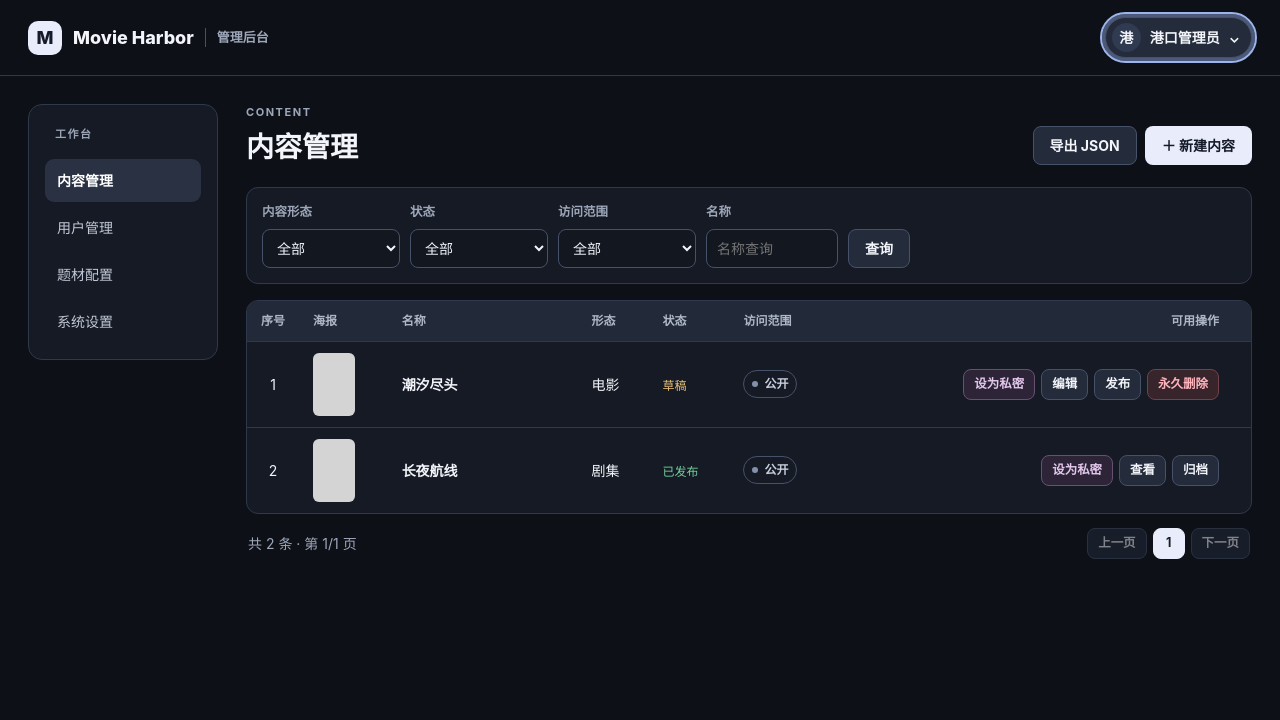
Scenario: opens the account menu by keyboard and closes on Escape and outside click
Press Enter
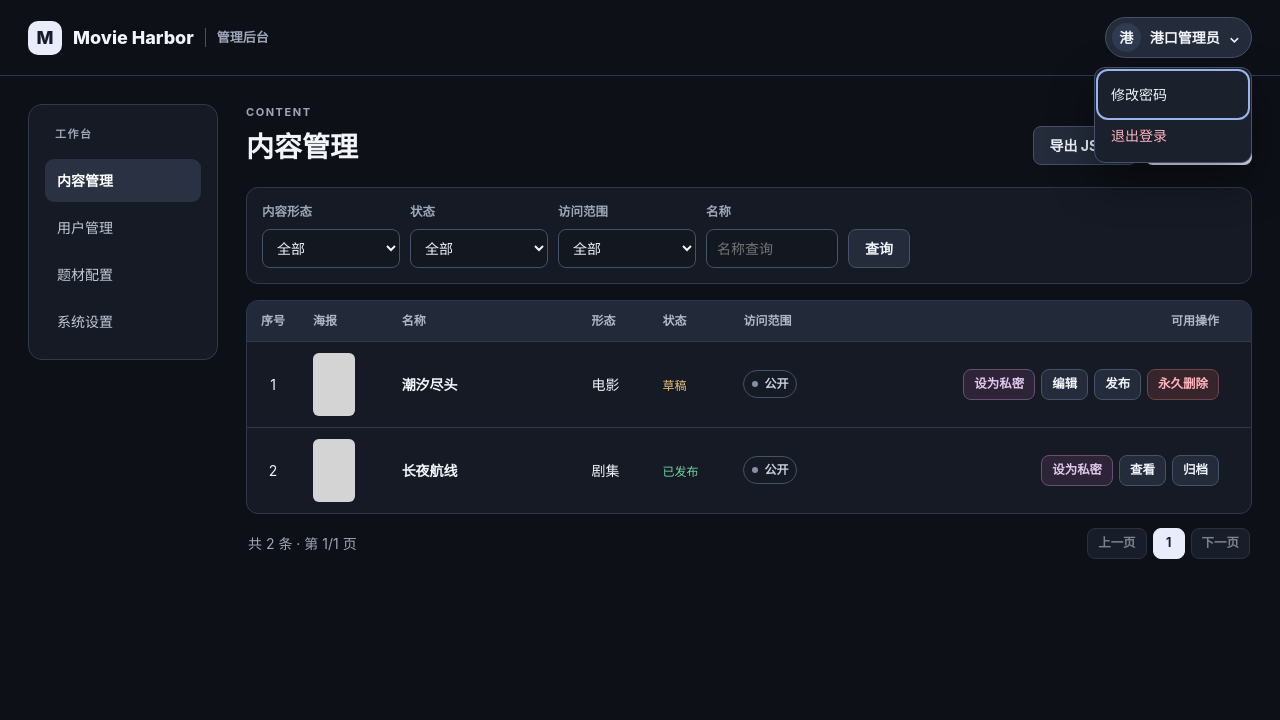
Expected: the button "港 港口管理员 ⌄" is expanded, left=1105, top=17, right=1252, bottom=58
Press Arrowdown
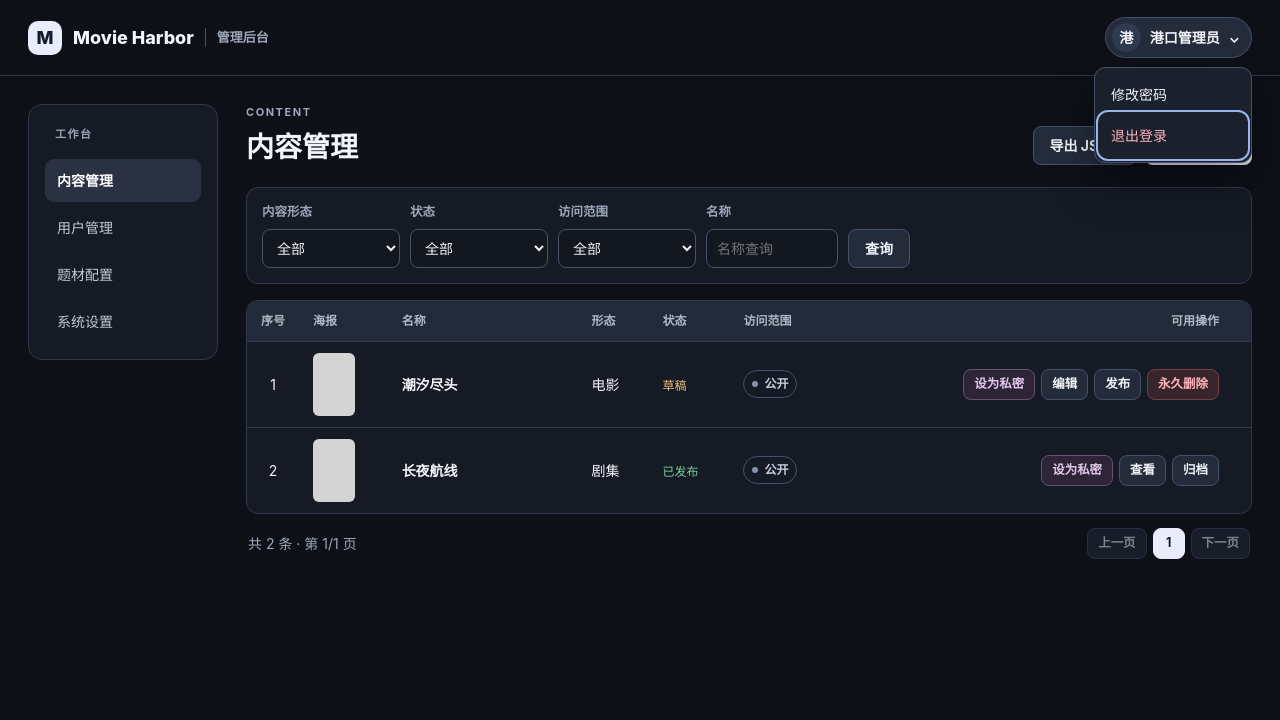
Press Escape
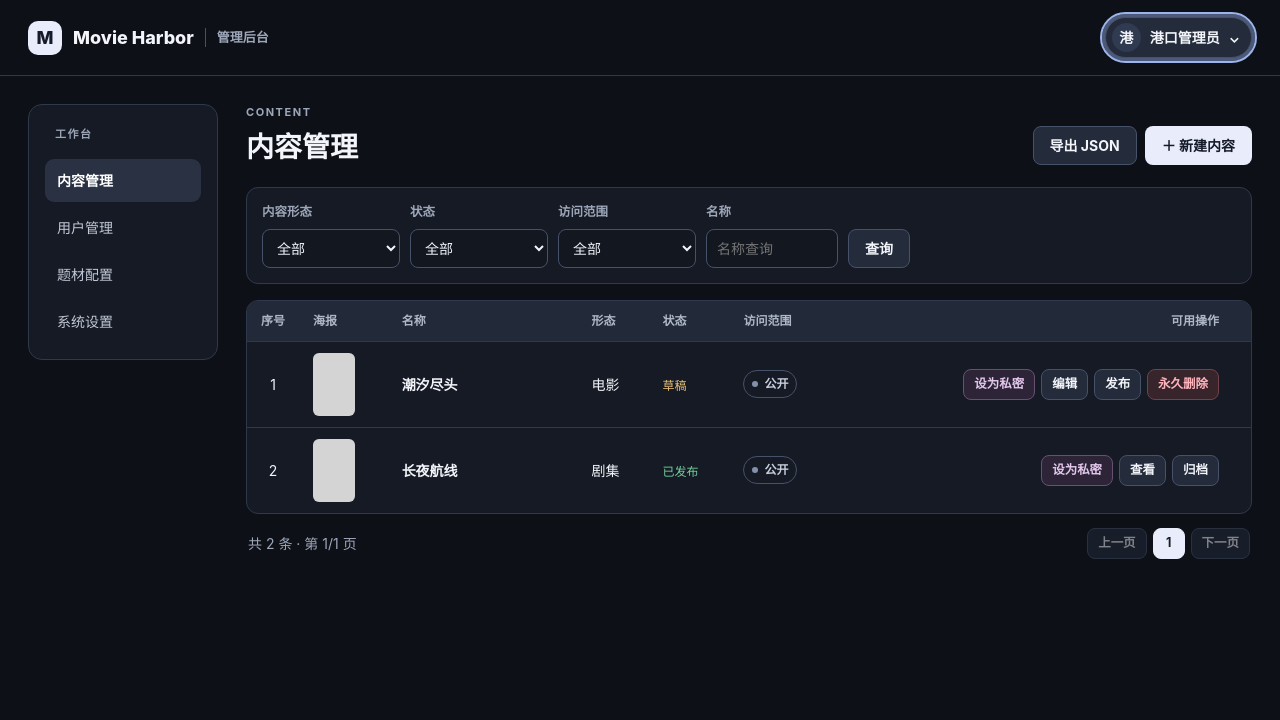
Expected: the menu is gone
Click the button "港 港口管理员 ⌄". click: click(1178, 38)
box: left=1105, top=17, right=1252, bottom=58
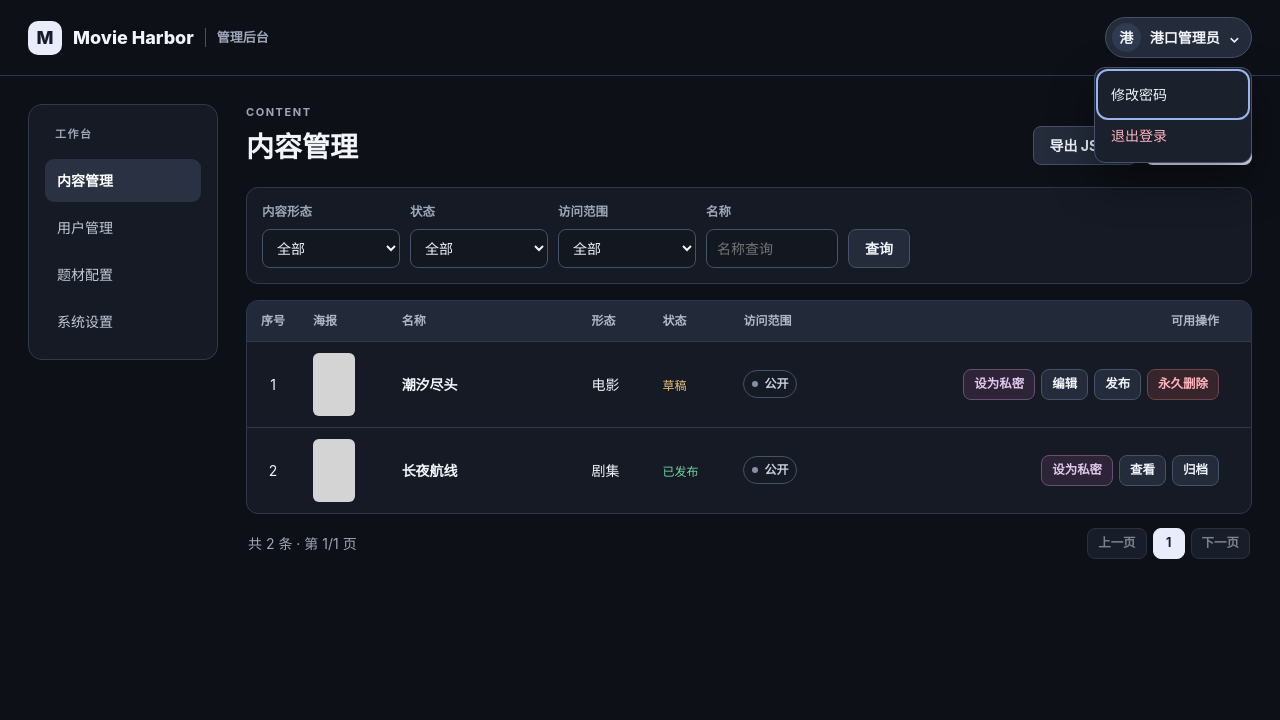
Click the heading "内容管理". click: click(302, 147)
box: left=246, top=128, right=358, bottom=165
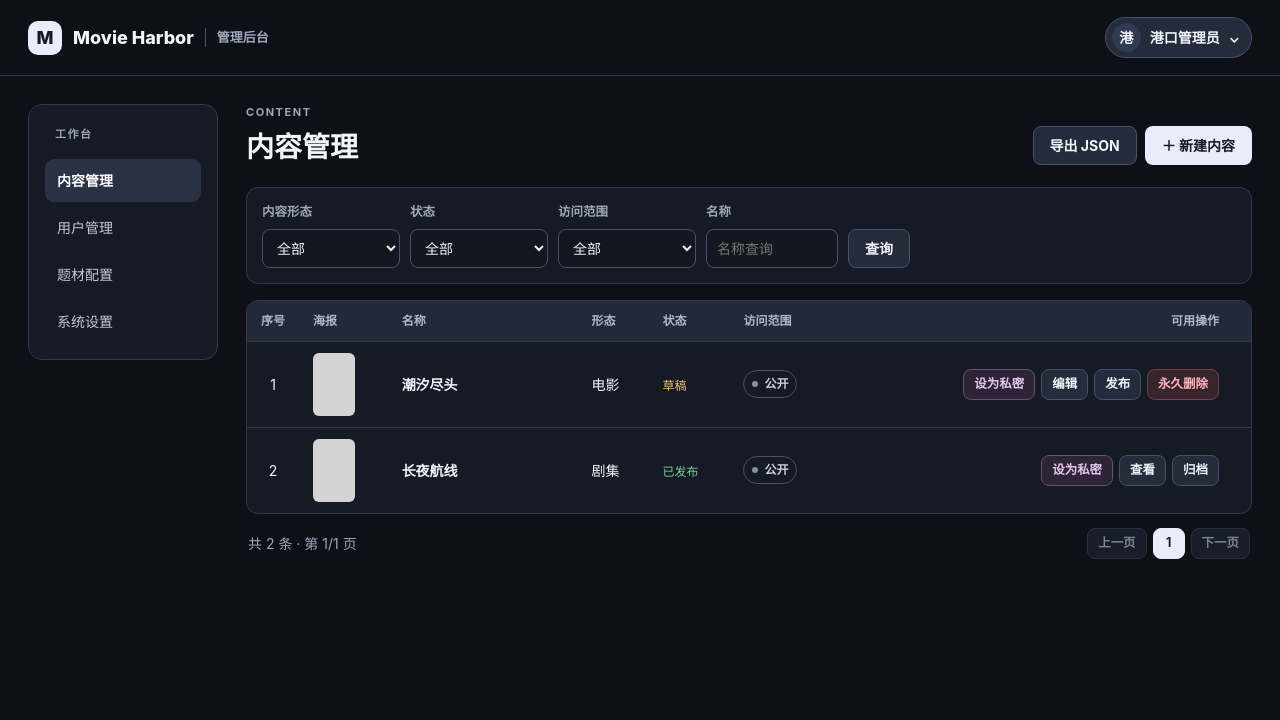
Expected: the menu is gone
Expected: the menu item "退出登录" is gone
